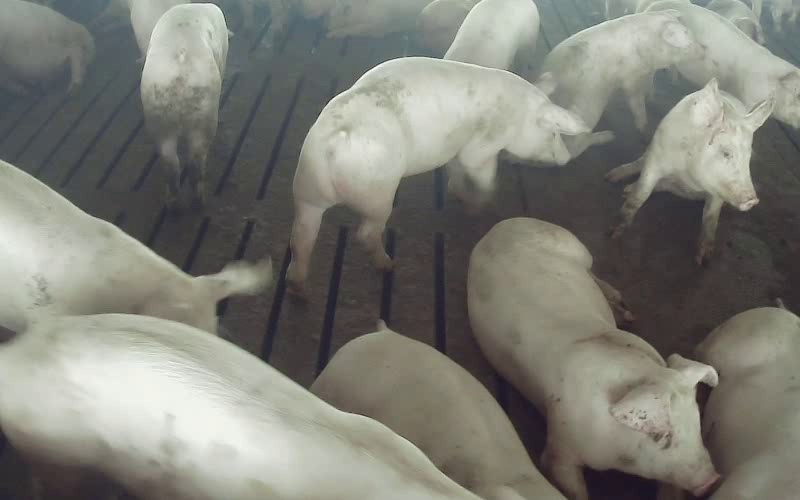pig: (470, 218, 718, 499), (291, 57, 586, 290), (310, 320, 564, 499), (608, 78, 772, 261), (536, 11, 695, 157), (695, 307, 799, 499), (644, 0, 799, 127), (141, 4, 227, 206), (444, 0, 539, 69)
